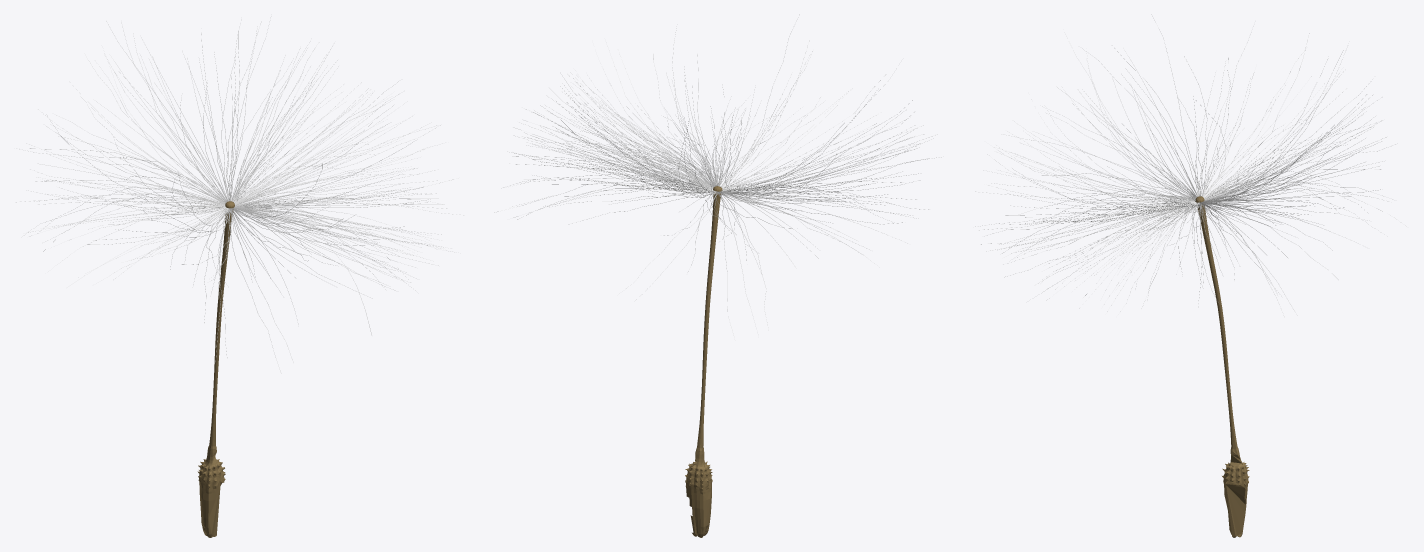
File: dog.glb
The picture shows the model from 3 angles, left to right: view 1: azimuth 30°, elevation 25°; view 2: azimuth 150°, elevation 25°; view 3: azimuth 270°, elevation 25°; orthographic projection. The views are drawn at different scales.
Parts seen in each view (by area): view 1: Seed_Top_pivot, Seed_pivot; view 2: Seed_Top_pivot, Seed_pivot; view 3: Seed_Top_pivot, Seed_pivot.
Boxes of the visible parts, box(x1,y1,x2,y2) form: Seed_Top_pivot: box(15, 16, 464, 373); Seed_pivot: box(197, 201, 234, 537); Seed_Top_pivot: box(494, 14, 943, 335); Seed_pivot: box(685, 186, 722, 537); Seed_Top_pivot: box(973, 14, 1395, 316); Seed_pivot: box(1195, 196, 1249, 537).
Size of the model in its own units: 1.17 by 1.37 by 1.15.
